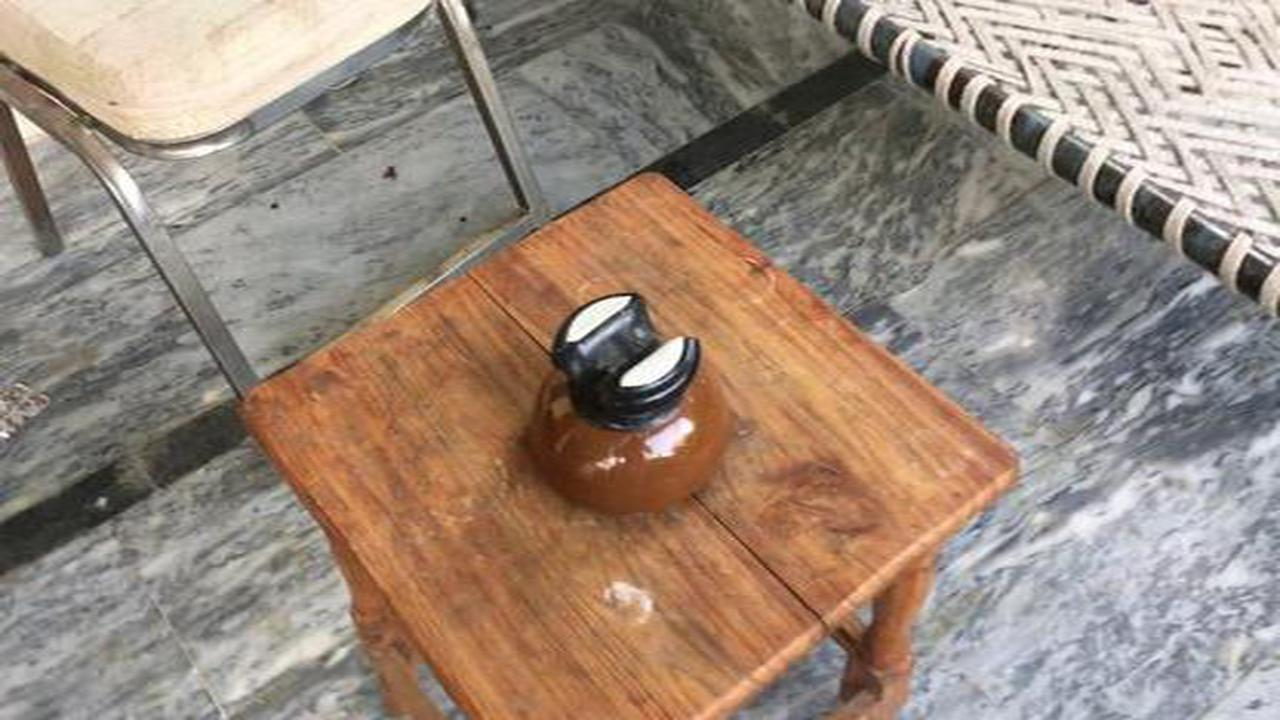insulator_pin: (493, 277, 761, 527)
